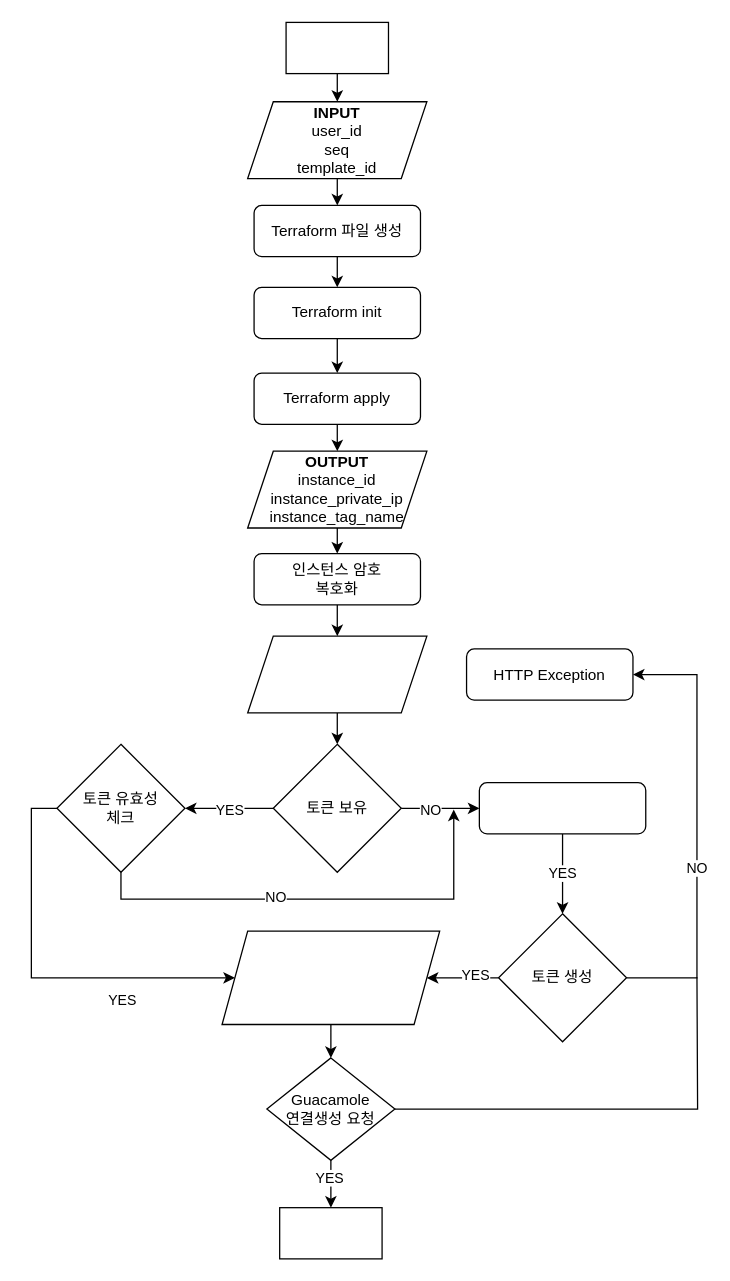
This 730x1281 diagram has some shape labels left out. The shapes that lost their labels are listed below. From the top down, each one's centre as x and y in pixels, then its label:
point 336,47: START
point 336,674: OUTPUT instance_password
point 562,807: 토큰 생성 요청
point 330,977: INPUT instance_tag instance_private_ip username password
point 330,1232: Guacamole 연결 생성
